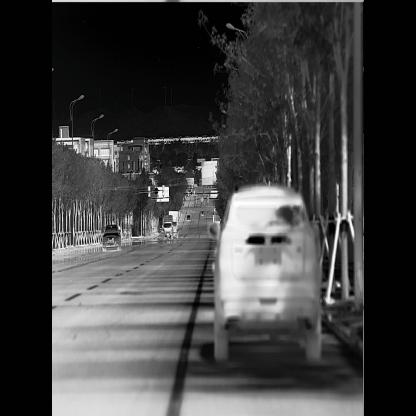car: (208, 183, 322, 363), (102, 223, 121, 251), (214, 217, 220, 224), (188, 187, 192, 196), (198, 178, 202, 186), (186, 214, 190, 220), (201, 210, 203, 216)
truck: (168, 210, 180, 240), (163, 214, 172, 240)
